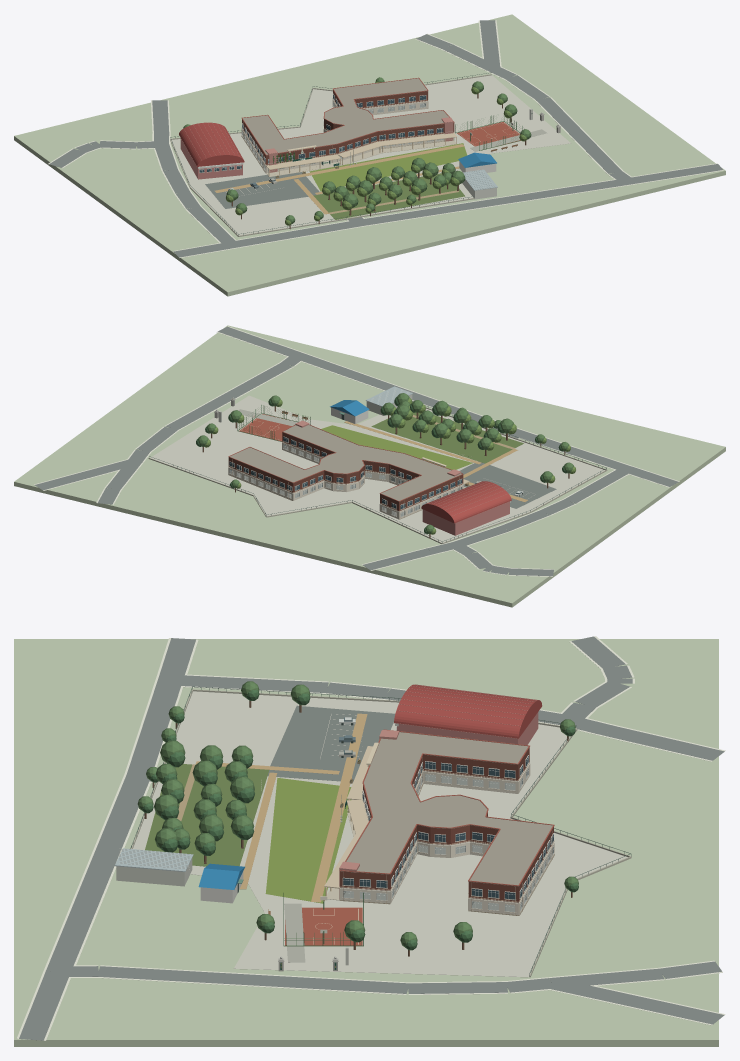
Rendered from dasi-elementary.glb.
The picture shows the model from 3 angles, top to bottom: view 1: azimuth 30°, elevation 25°; view 2: azimuth 150°, elevation 25°; view 3: azimuth 270°, elevation 25°; orthographic projection. The views are drawn at different scales.
Visible parts, largest first — view 1: ground_base, ground_floor_campus, roof_main_flat, ground_floor_school_parking, osm-building_963585634, ground_floor_school_lawn, ground_floor_south_grove, roof_west_barrel, road_591007053_2, road_532229673_1, road_591007053_1, ground_floor_sport_court (+10 smaller); view 2: ground_base, ground_floor_campus, roof_main_flat, osm-building_963585634, ground_floor_south_grove, roof_west_barrel, ground_floor_school_parking, ground_floor_school_lawn, road_532229673_1, road_591007053_2, osm-building_963585635, road_591007053_1 (+6 smaller); view 3: ground_base, ground_floor_campus, roof_main_flat, ground_floor_school_lawn, ground_floor_school_parking, roof_west_barrel, road_591007053_2, osm-building_963585634, ground_floor_south_grove, road_532229673_1, road_591007053_1, ground_floor_sport_court (+21 smaller).
Part boxes in pixels (<box>): ground_base: <box>14,14,725,296</box>; ground_floor_campus: <box>171,75,570,235</box>; roof_main_flat: <box>243,78,448,154</box>; ground_floor_school_parking: <box>205,172,321,208</box>; osm-building_963585634: <box>242,90,454,165</box>; ground_floor_school_lawn: <box>309,143,467,191</box>; ground_floor_south_grove: <box>313,173,464,219</box>; roof_west_barrel: <box>179,122,244,166</box>; road_591007053_2: <box>357,178,630,225</box>; road_532229673_1: <box>536,97,621,173</box>; road_591007053_1: <box>232,220,361,247</box>; ground_floor_sport_court: <box>457,122,520,146</box>; ground_base: <box>14,325,725,607</box>; ground_floor_campus: <box>150,395,604,542</box>; roof_main_flat: <box>229,425,461,501</box>; osm-building_963585634: <box>228,432,463,510</box>; ground_floor_south_grove: <box>371,412,523,463</box>; roof_west_barrel: <box>421,481,511,523</box>; ground_floor_school_parking: <box>459,461,556,508</box>; ground_floor_school_lawn: <box>321,425,472,469</box>; road_532229673_1: <box>166,363,292,429</box>; road_591007053_2: <box>294,353,522,435</box>; osm-building_963585635: <box>422,501,509,535</box>; road_591007053_1: <box>514,430,631,469</box>; ground_base: <box>14,639,718,1046</box>; ground_floor_campus: <box>133,691,627,977</box>; roof_main_flat: <box>341,732,552,886</box>; ground_floor_school_lawn: <box>265,777,351,903</box>; ground_floor_school_parking: <box>267,705,395,781</box>; roof_west_barrel: <box>394,684,542,738</box>; road_591007053_2: <box>46,775,149,971</box>; osm-building_963585634: <box>340,747,553,902</box>; ground_floor_south_grove: <box>145,764,269,866</box>; road_532229673_1: <box>97,966,409,993</box>; road_591007053_1: <box>126,679,181,775</box>; ground_floor_sport_court: <box>285,907,362,945</box>.
Size of what is drawn, in the model's own units: 247 by 12.75 by 184.
Materials: 141 (1 with a texture image).
